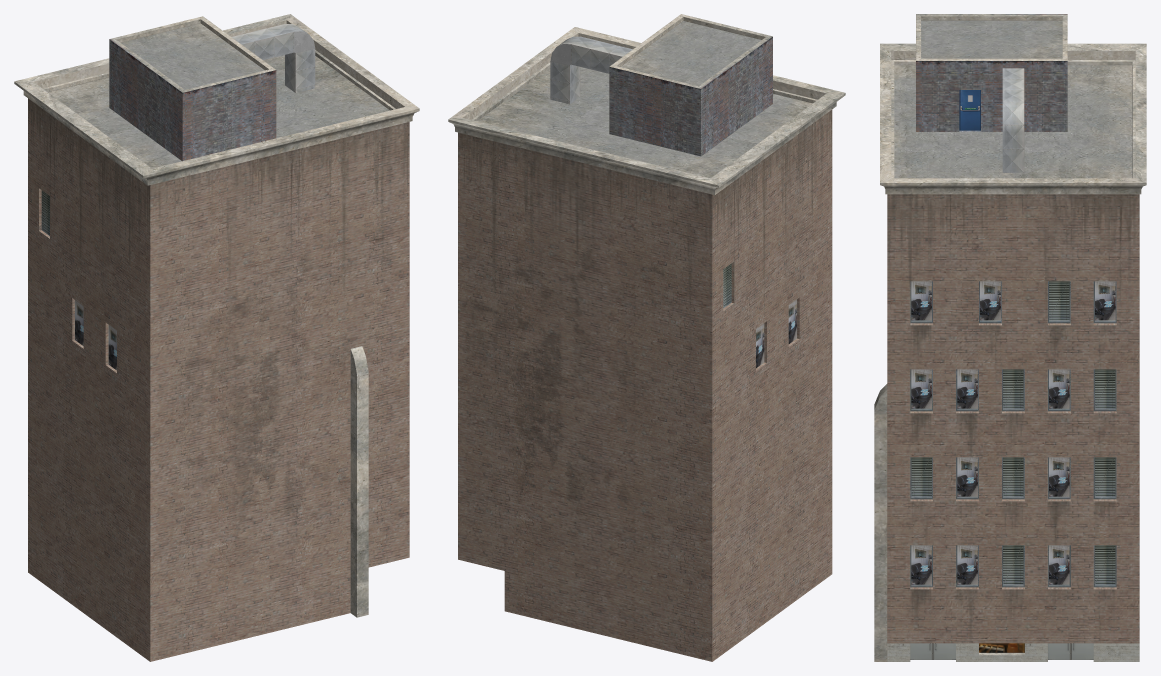
Rendered from building_09.fbx.
3 renders of one model, left to right at view 1: azimuth 30°, elevation 25°; view 2: azimuth 150°, elevation 25°; view 3: azimuth 270°, elevation 25°, orthographic. The views are drawn at different scales.
Parts seen in each view (by area): view 1: Plane.078; view 2: Plane.078; view 3: Plane.078.
Part boxes in pixels (bbox=[...]): Plane.078: bbox=[14, 14, 419, 661]; Plane.078: bbox=[448, 14, 845, 661]; Plane.078: bbox=[874, 14, 1146, 661].
Size of the model in its own units: 10.04 by 19.01 by 8.32.
